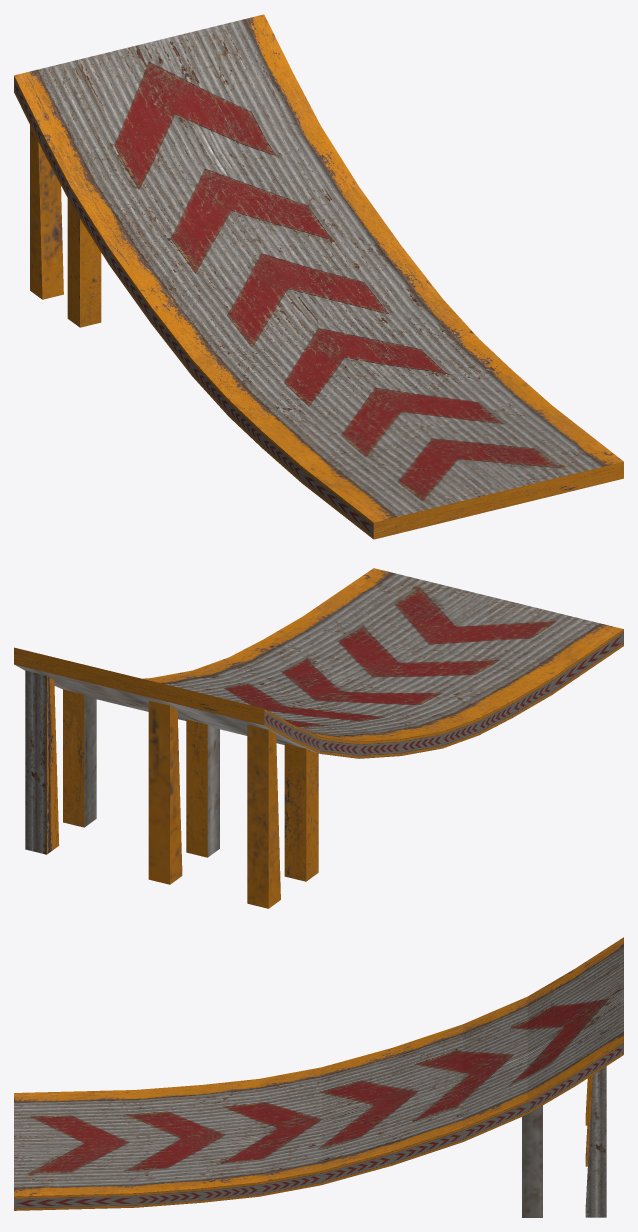
File: Industrial Ramp X.fbx
3 views of the same model, one above another, from view 1: azimuth 30°, elevation 25°; view 2: azimuth 150°, elevation 25°; view 3: azimuth 270°, elevation 25° (orthographic). The views are drawn at different scales.
Visible parts, largest first — view 1: Cube; view 2: Cube; view 3: Cube.
Part boxes in pixels (x1,y1,x2,y2): Cube: [14, 14, 623, 539]; Cube: [14, 568, 623, 908]; Cube: [14, 937, 623, 1217].
Size of the model in its own units: 6.73 by 5.39 by 16.77.
1 material, 1 textured.
